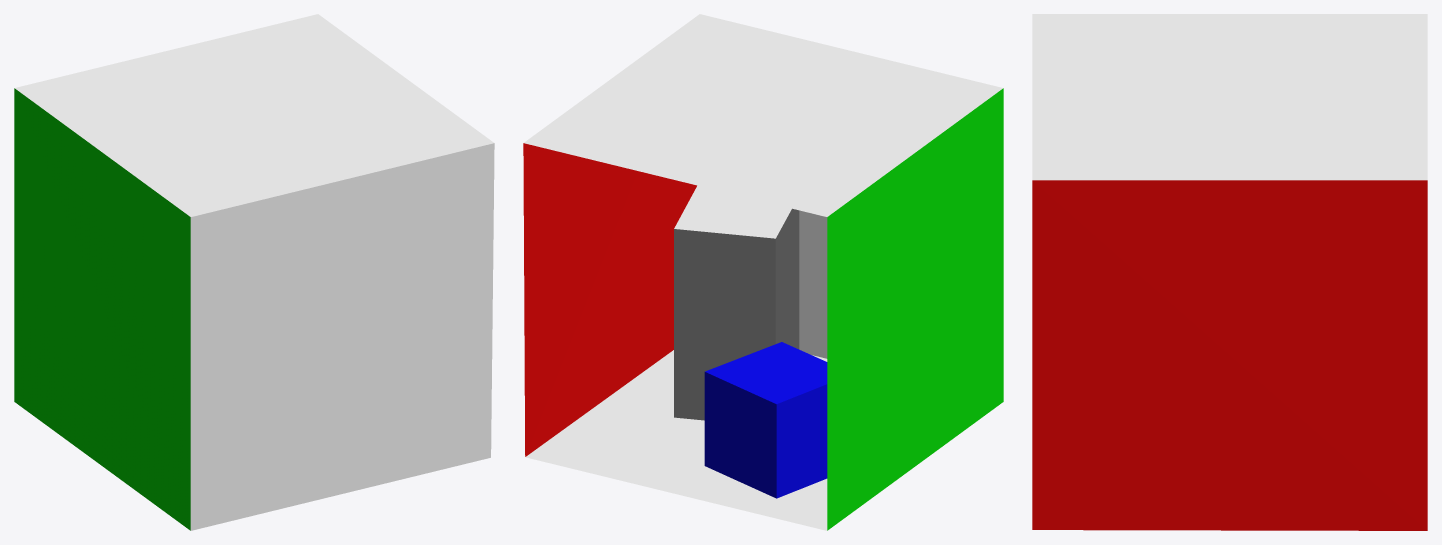
The model's file is cornell_box.obj.
3 views of the same model, side by side, from view 1: azimuth 30°, elevation 25°; view 2: azimuth 150°, elevation 25°; view 3: azimuth 270°, elevation 25° (orthographic). The views are drawn at different scales.
Parts seen in each view (by area): view 1: back_wall, green_wall, ceiling; view 2: green_wall, ceiling, red_wall, tall_block, floor, short_block, back_wall; view 3: red_wall, ceiling.
Part boxes in pixels (x1=…): back_wall: x1=190, y1=143, x2=494, y2=530; green_wall: x1=14, y1=88, x2=190, y2=530; ceiling: x1=14, y1=14, x2=493, y2=216; green_wall: x1=827, y1=88, x2=1003, y2=530; ceiling: x1=524, y1=14, x2=1003, y2=216; red_wall: x1=523, y1=143, x2=696, y2=456; tall_block: x1=674, y1=185, x2=799, y2=420; floor: x1=525, y1=350, x2=827, y2=530; short_block: x1=704, y1=342, x2=827, y2=498; back_wall: x1=799, y1=210, x2=827, y2=358; red_wall: x1=1032, y1=180, x2=1427, y2=530; ceiling: x1=1032, y1=14, x2=1427, y2=180.
Bounding box in the file's own units: 5.56 × 5.49 × 5.59.
